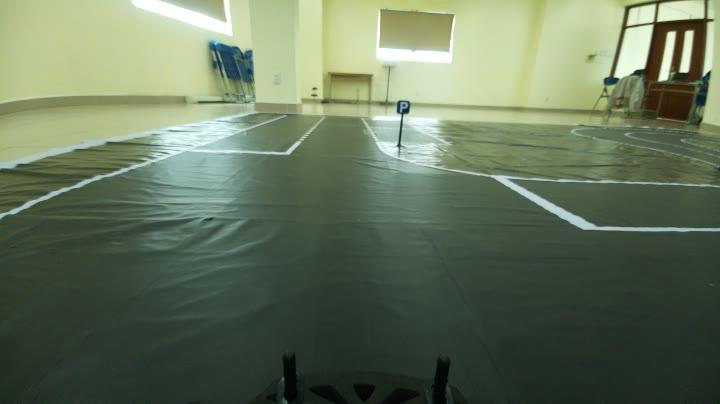parking: (394, 94, 419, 120)
